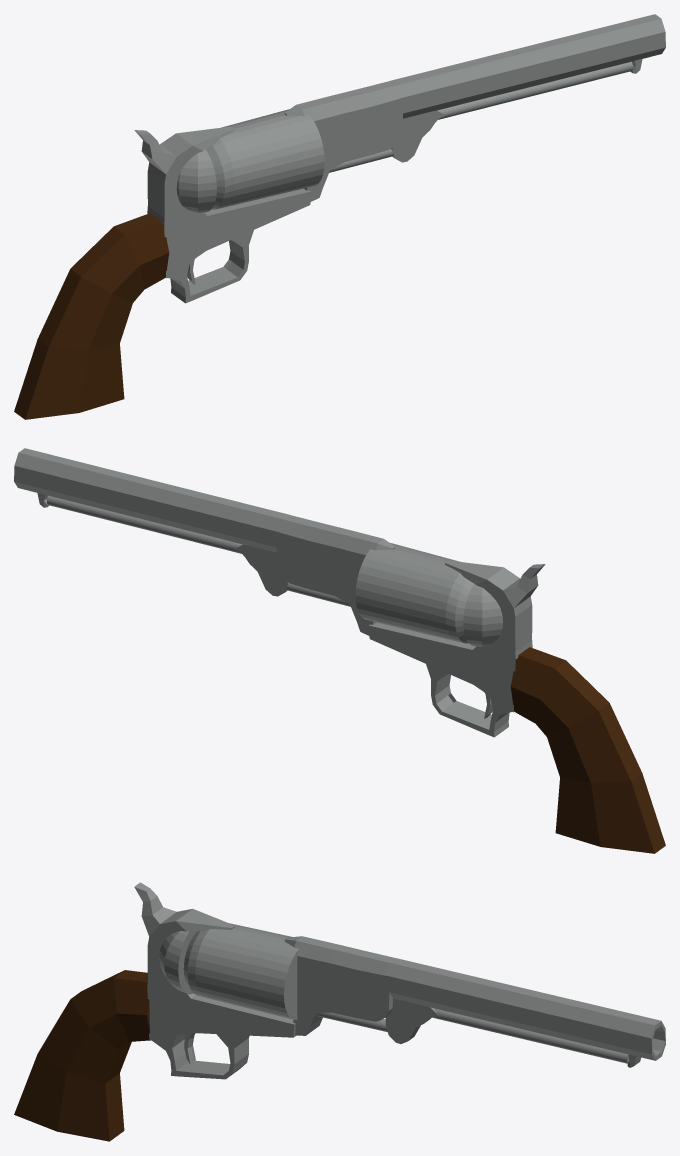
File: revolver.glb
The picture shows the model from 3 angles, top to bottom: view 1: azimuth 30°, elevation 25°; view 2: azimuth 150°, elevation 25°; view 3: azimuth 330°, elevation 25°; orthographic projection.
Parts seen in each view (by area): view 1: Revolver; view 2: Revolver; view 3: Revolver.
Part boxes in pixels (left/top/right/bottom): Revolver: left=14, top=14, right=665, bottom=419; Revolver: left=14, top=448, right=665, bottom=853; Revolver: left=14, top=882, right=665, bottom=1141.
Size of the model in its own units: 4.33 by 1.66 by 0.4747.
